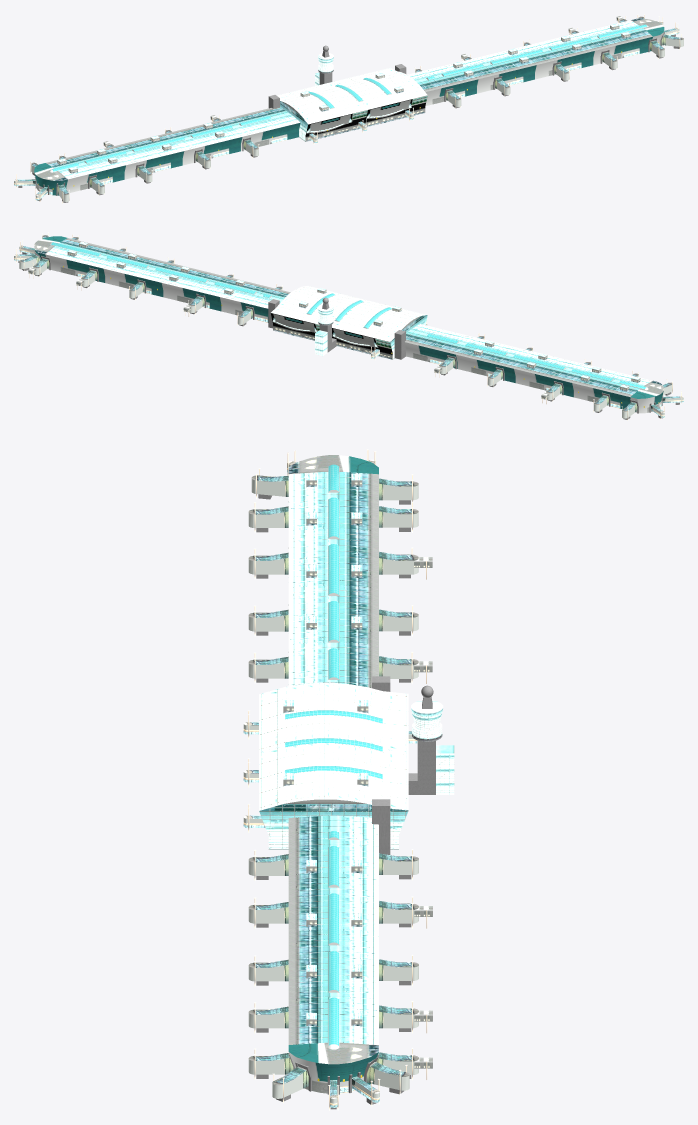
The model's file is concourse-a001.dae.
The picture shows the model from 3 angles, top to bottom: view 1: azimuth 30°, elevation 25°; view 2: azimuth 150°, elevation 25°; view 3: azimuth 270°, elevation 25°; orthographic projection. The views are drawn at different scales.
Visible parts, largest first — view 1: node4, node3, node5, node6, node7; view 2: node4, node3, node5, node6, node7; view 3: node4, node3, node5, node6, node7.
Part boxes in pixels (x1,y1,x2,y2): node4: (34, 16, 664, 195); node3: (277, 53, 427, 141); node5: (14, 16, 683, 201); node6: (18, 32, 679, 202); node7: (16, 14, 681, 203); node4: (28, 236, 663, 413); node3: (270, 286, 427, 359); node5: (14, 235, 683, 418); node6: (18, 251, 679, 419); node7: (16, 232, 681, 420); node4: (283, 455, 432, 1093); node3: (259, 682, 454, 849); node5: (243, 459, 418, 1107); node6: (256, 494, 435, 1109); node7: (247, 449, 427, 1110).
Size of the model in its own units: 985 by 137 by 75.35.
Materials: 7 (6 with a texture image).
